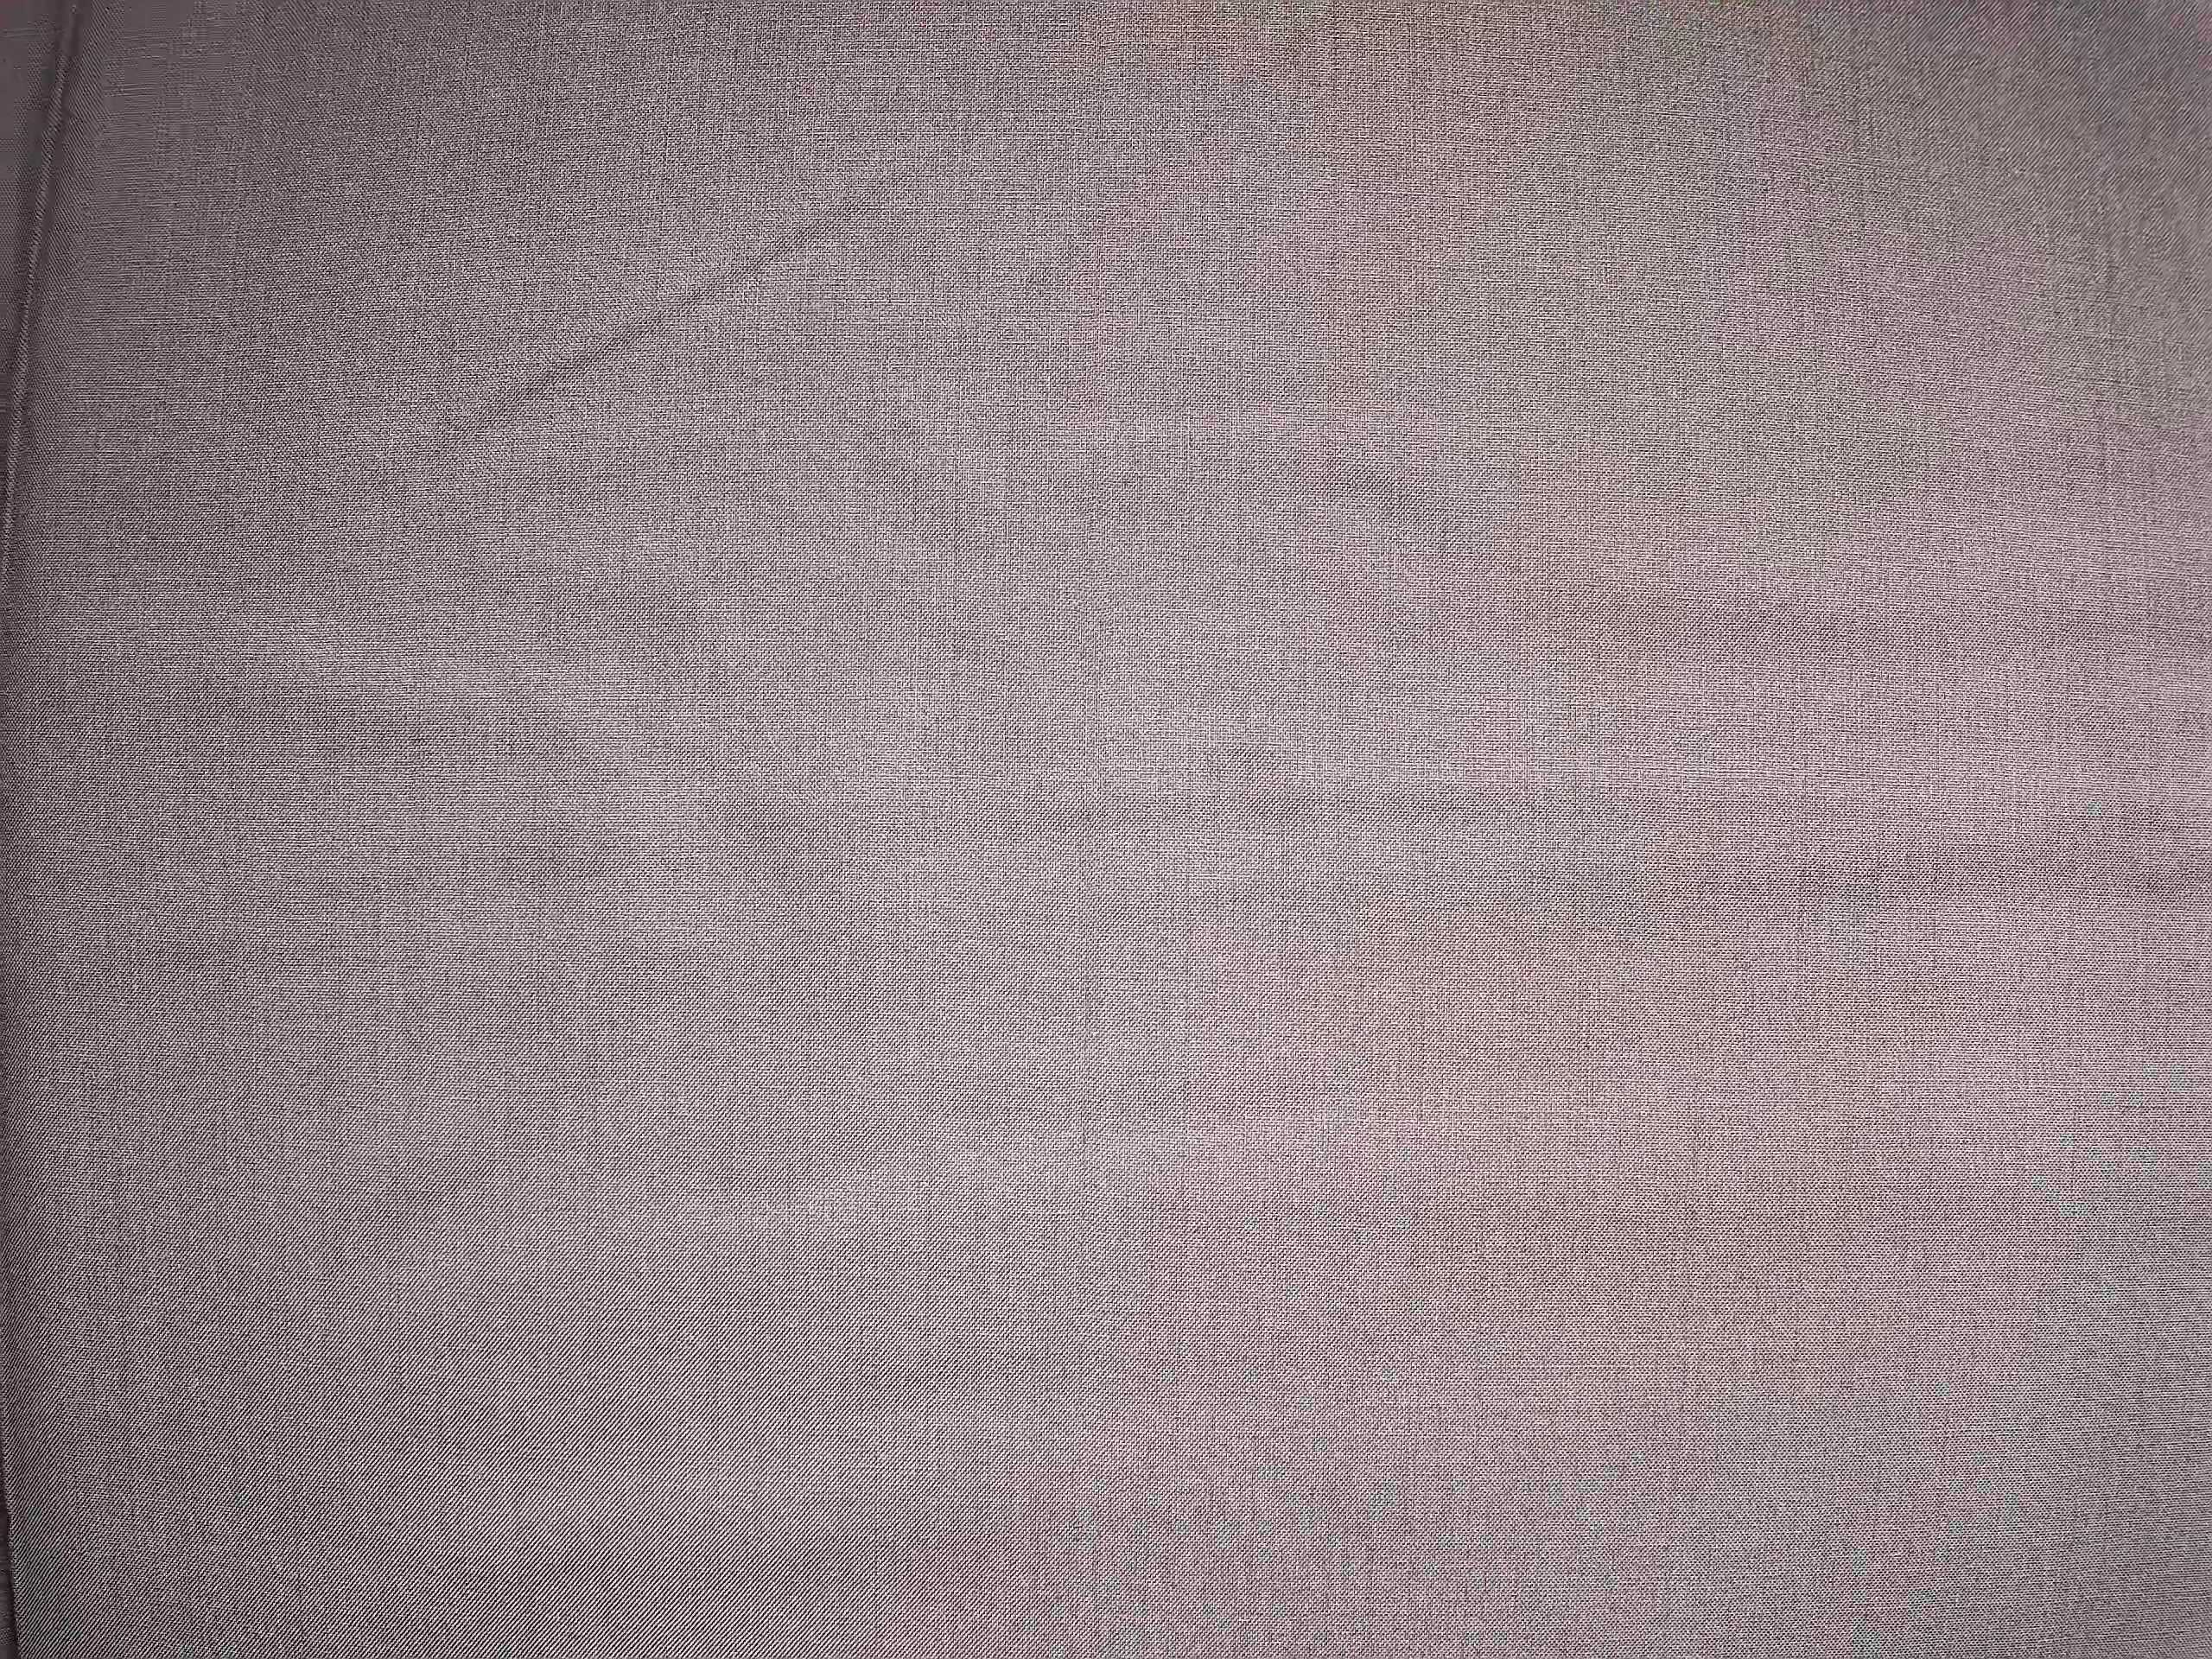hanging-warp: (70, 1147, 141, 1535)
